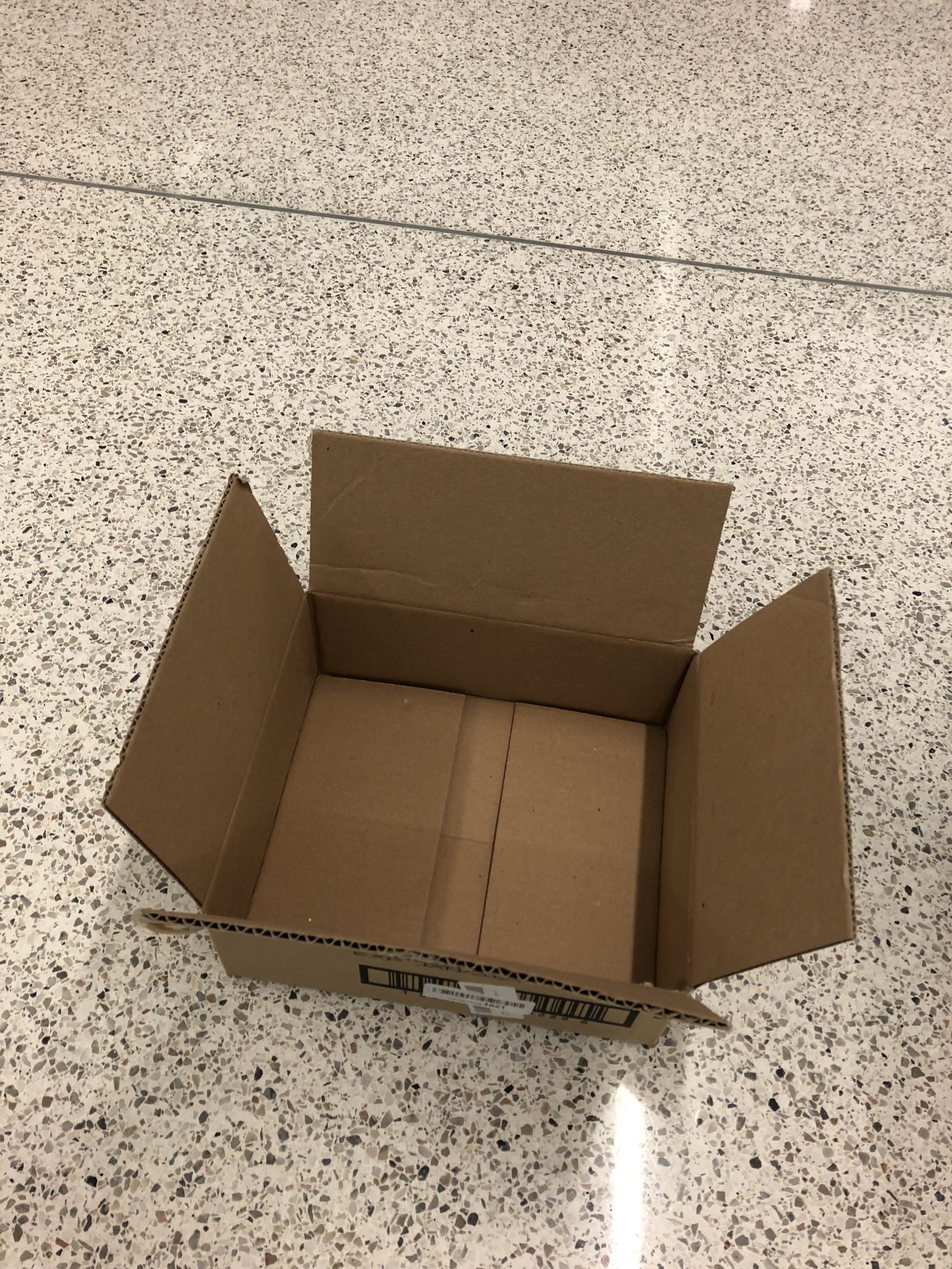box: (101, 429, 856, 1050)
crushed: (104, 431, 856, 1034)
